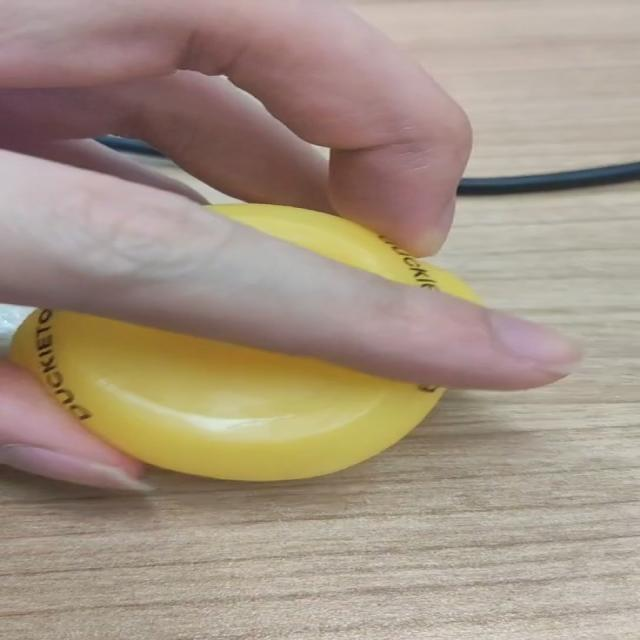rubber-duck: (9, 308, 442, 479), (209, 203, 477, 301)
